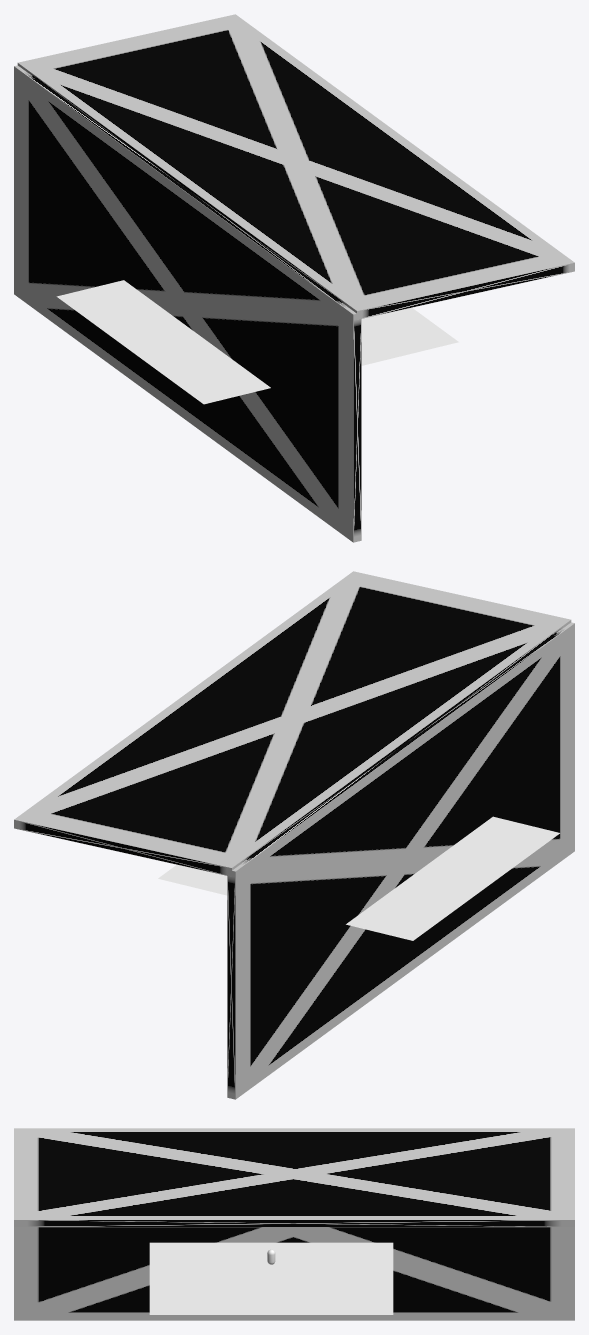
File: helmetsGLB3.glb
3 renders of one model, top to bottom at view 1: azimuth 30°, elevation 25°; view 2: azimuth 150°, elevation 25°; view 3: azimuth 270°, elevation 25°, orthographic. The views are drawn at different scales.
Parts seen in each view (by area): view 1: Cube (1), Cube, Plane; view 2: Cube (1), Cube, Plane; view 3: Cube (1), Cube, Plane.
Boxes of the visible parts, left/top/right/bottom form: Cube (1): left=17, top=14, right=574, bottom=319; Cube: left=14, top=65, right=361, bottom=542; Plane: left=56, top=280, right=458, bottom=404; Cube (1): left=14, top=571, right=571, bottom=876; Cube: left=227, top=622, right=574, bottom=1099; Plane: left=158, top=816, right=559, bottom=940; Cube (1): left=14, top=1128, right=574, bottom=1227; Cube: left=14, top=1227, right=574, bottom=1320; Plane: left=149, top=1242, right=393, bottom=1314.
Size of the model in its own units: 34.42 by 26.24 by 69.98.
2 materials, 1 textured.
